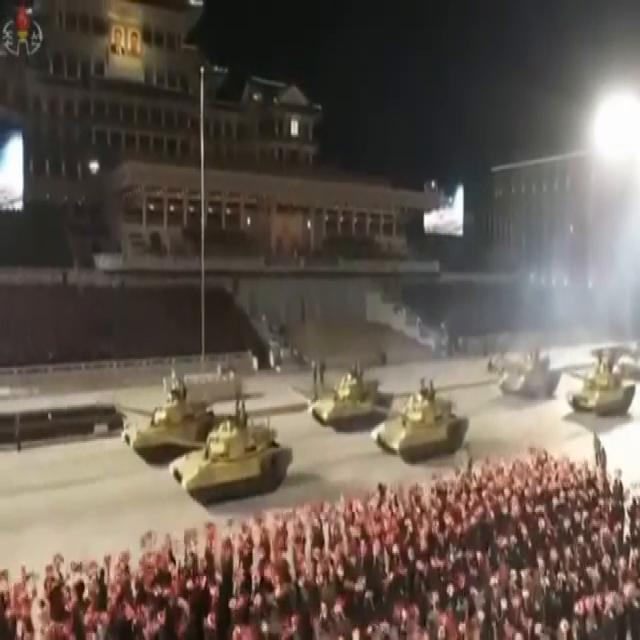north tank: (162, 399, 302, 505), (370, 377, 478, 466), (303, 354, 393, 449), (122, 380, 214, 470), (571, 359, 639, 441), (499, 344, 561, 419)
